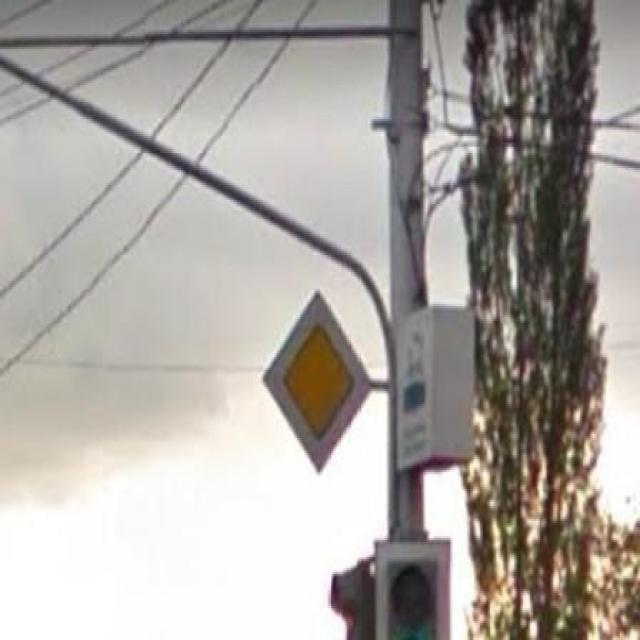Droga z pierwszenstwem: (258, 287, 376, 478)
